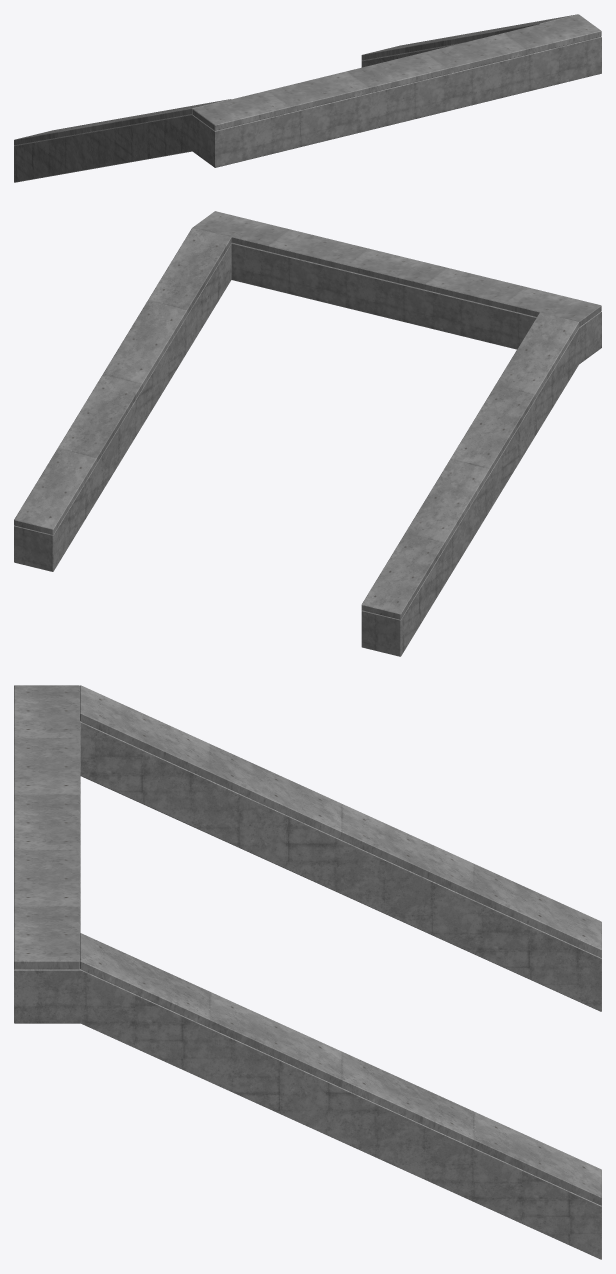
Rendered from SM_Steps_Wall_01.fbx.
The picture shows the model from 3 angles, top to bottom: view 1: azimuth 30°, elevation 25°; view 2: azimuth 150°, elevation 25°; view 3: azimuth 270°, elevation 25°; orthographic projection. The views are drawn at different scales.
Visible parts, largest first — view 1: SM_Steps_Wall_01; view 2: SM_Steps_Wall_01; view 3: SM_Steps_Wall_01.
Part boxes in pixels (x1,y1,x2,y2): SM_Steps_Wall_01: (14,14,601,182); SM_Steps_Wall_01: (14,211,601,656); SM_Steps_Wall_01: (14,685,601,1259).
Size of the model in its own units: 1002 by 507 by 902.
